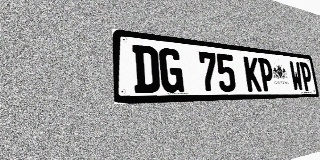5: (216, 53, 237, 92)
7: (197, 51, 219, 92)
D: (132, 45, 160, 93)
G: (158, 47, 184, 93)
K: (243, 56, 262, 92)
P: (258, 58, 275, 91), (299, 62, 313, 91)
W: (289, 61, 304, 91)
